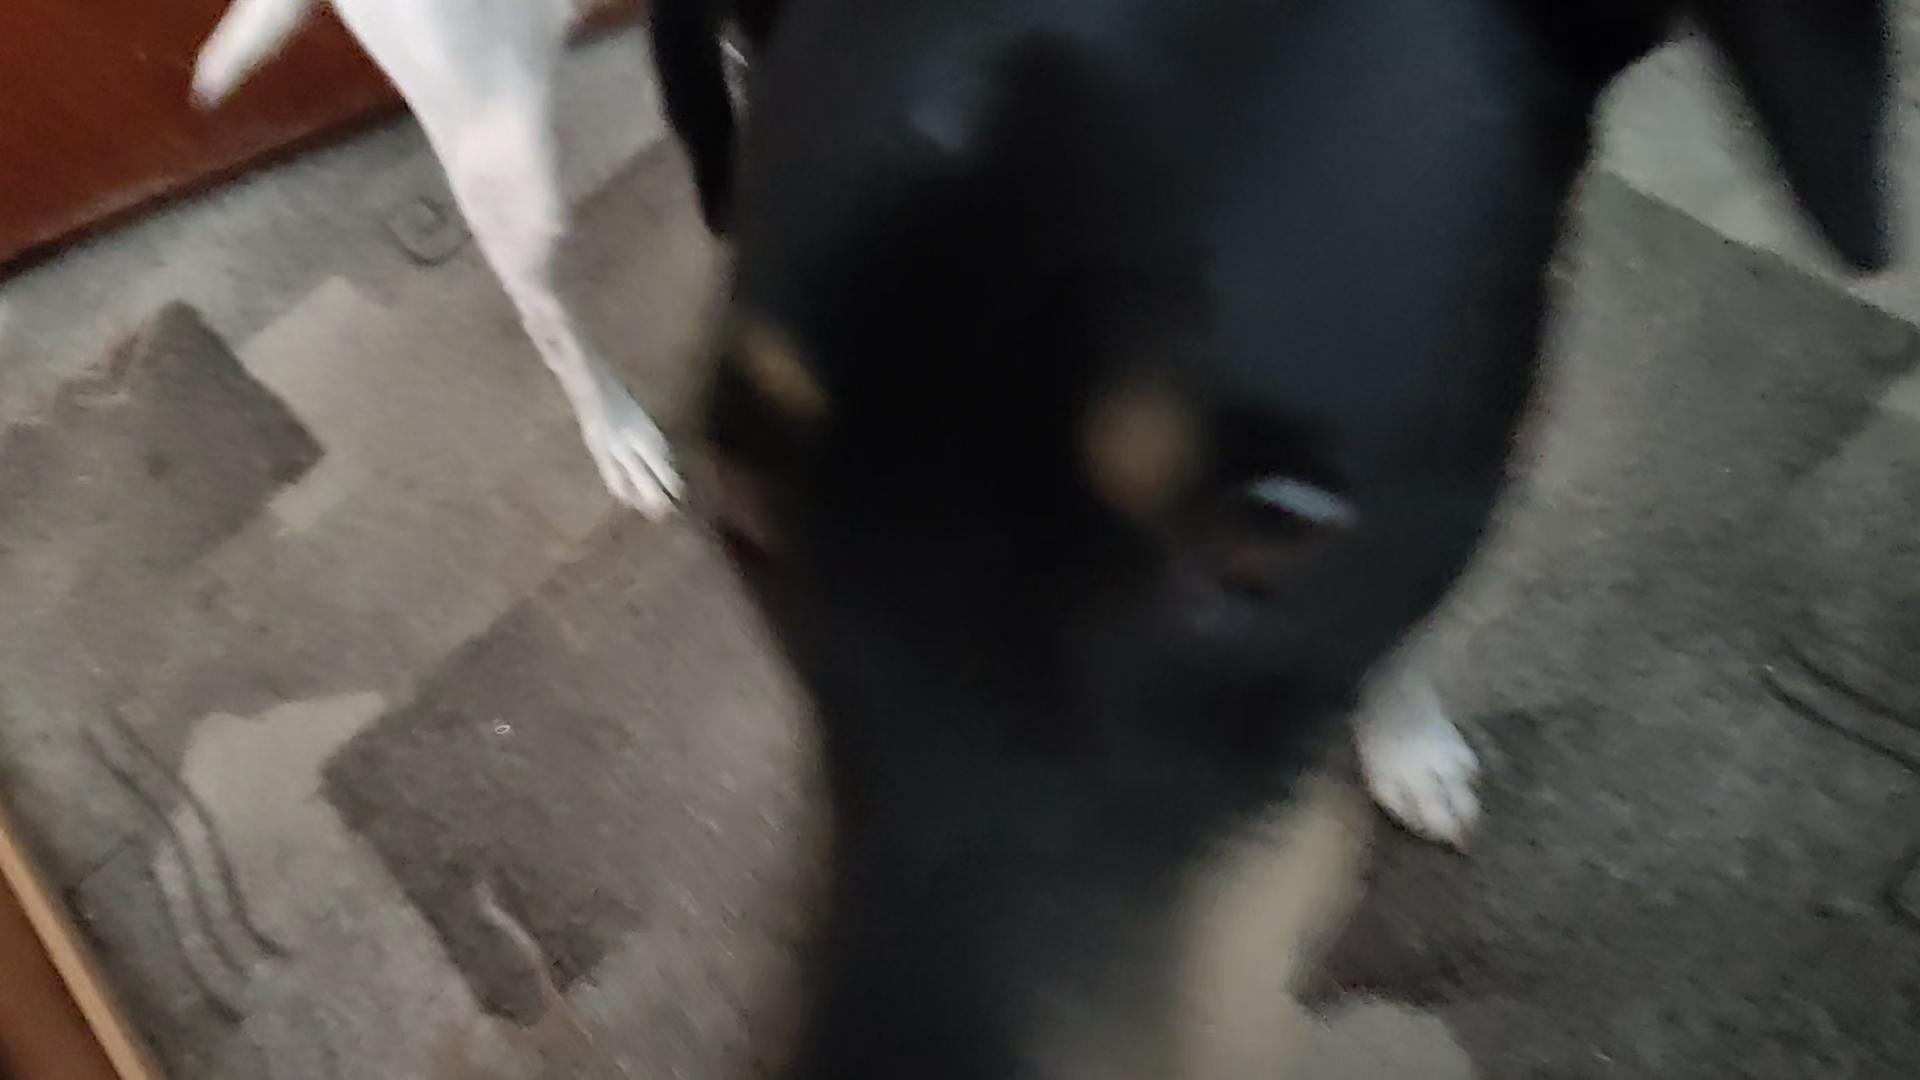Dog: (181, 0, 1894, 1080)
